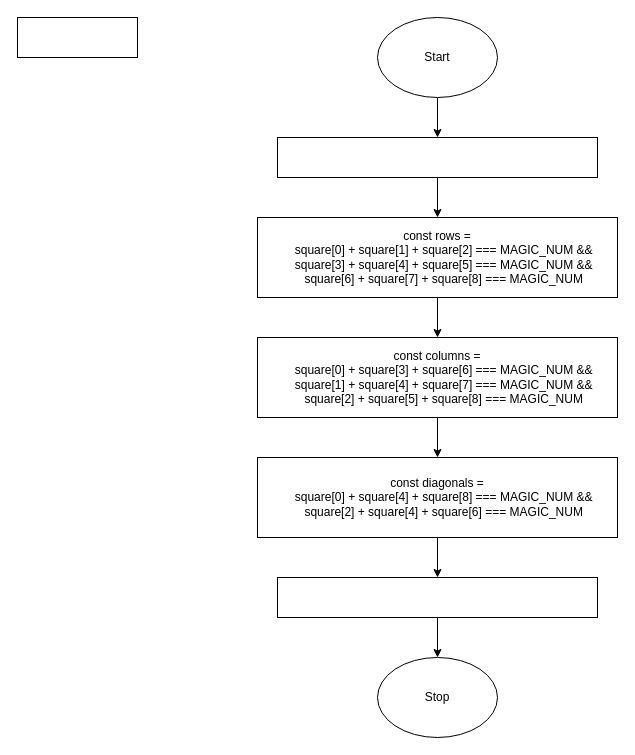
Image size: 635x755. Some labels were removed from this diagram. Here are the shapes that lost their labels. From the top down, the centre of each, then its label:
point (77, 37): Function isMagic
point (437, 157): const hasDuplicates = duplicates(square).length === 0
point (437, 597): return rows && columns && diagonals && hasDuplicates
